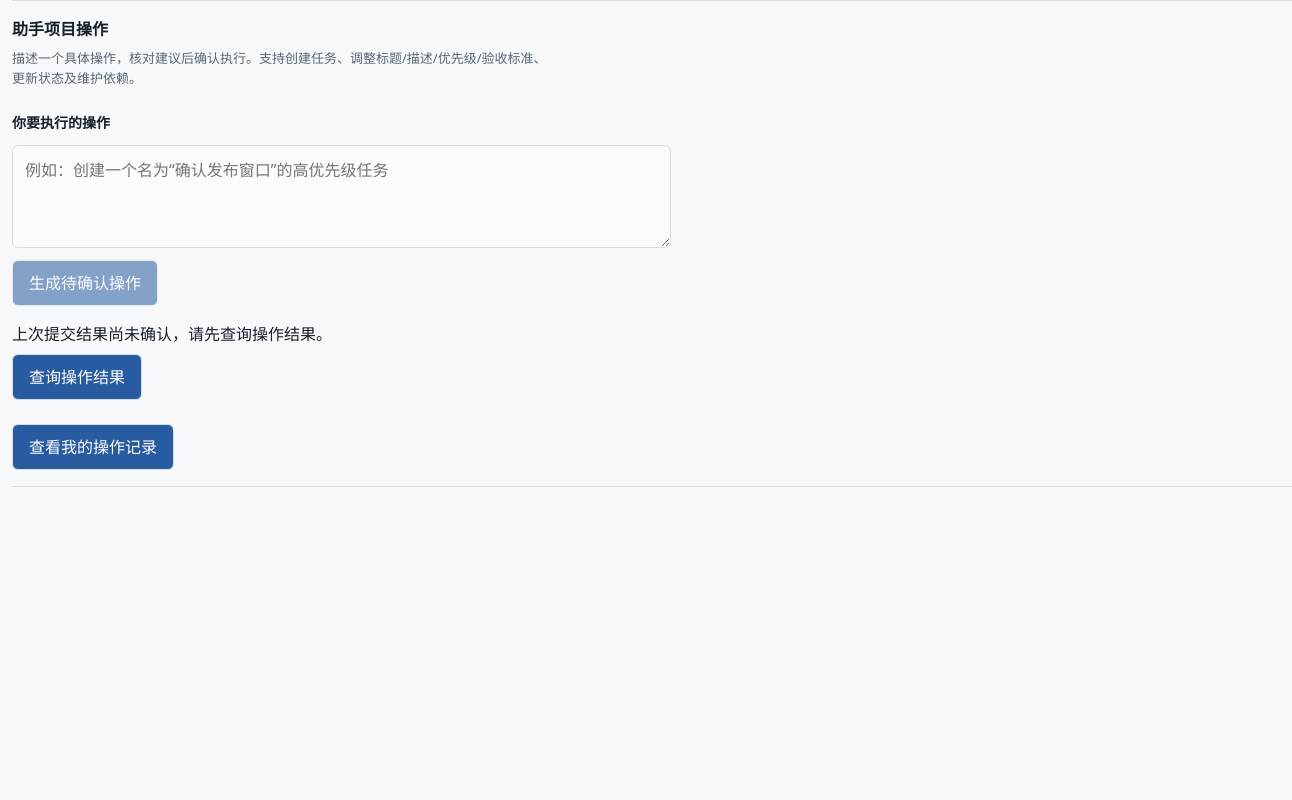
Test case: reload restores pending ID and queries before allowing another operation
Expected: the button "生成待确认操作" is disabled, top-left (12, 260), bottom-right (158, 306)
Click the button "查询操作结果" at (77, 377), box top-left (12, 354), bottom-right (142, 400)
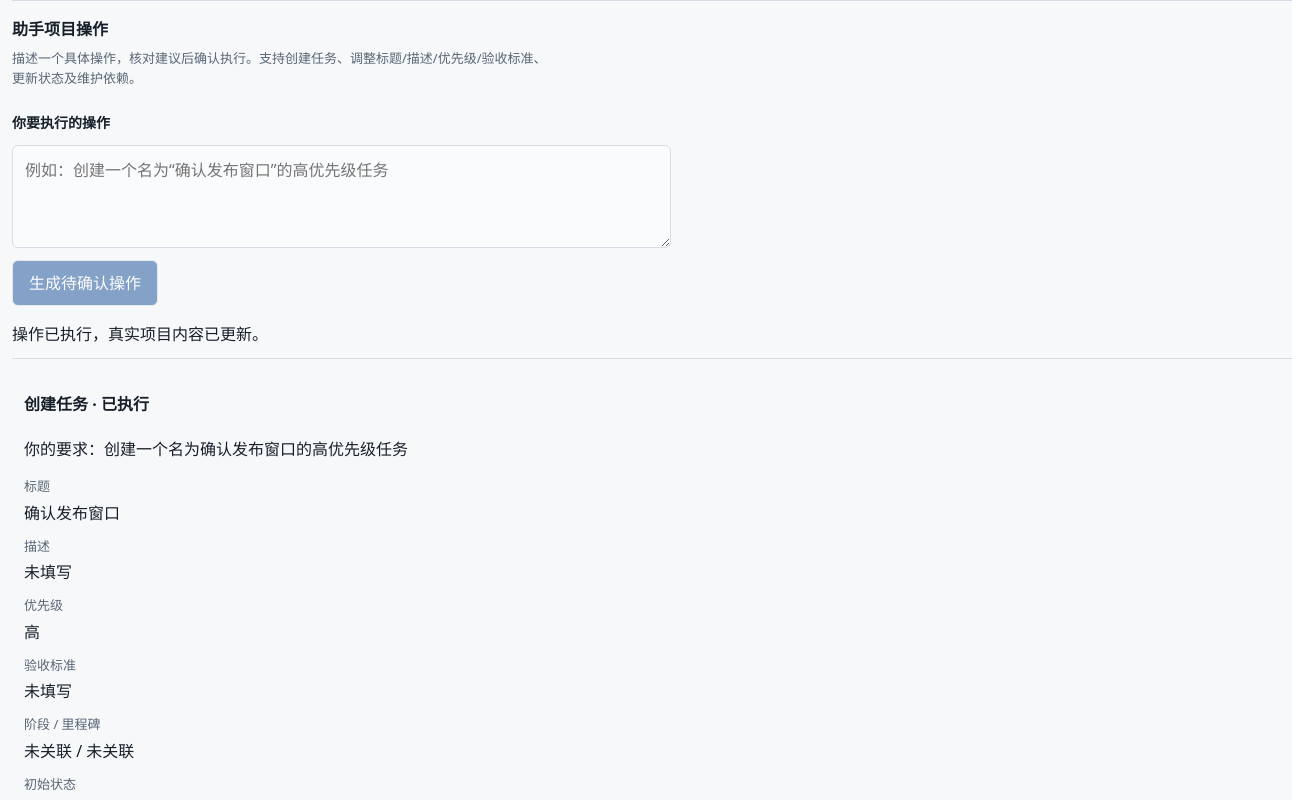
Result: the text "操作已执行，真实项目内容已更新。" is shown at top-left (12, 323), bottom-right (268, 345)
